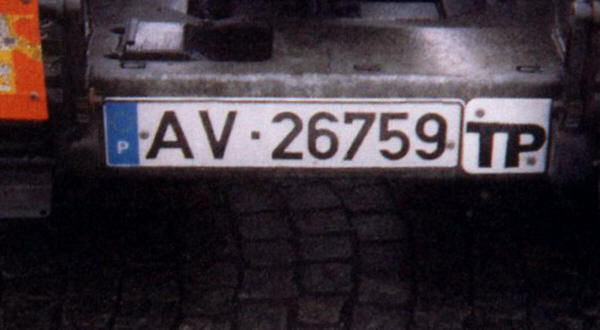license_plate: (107, 95, 462, 169)
